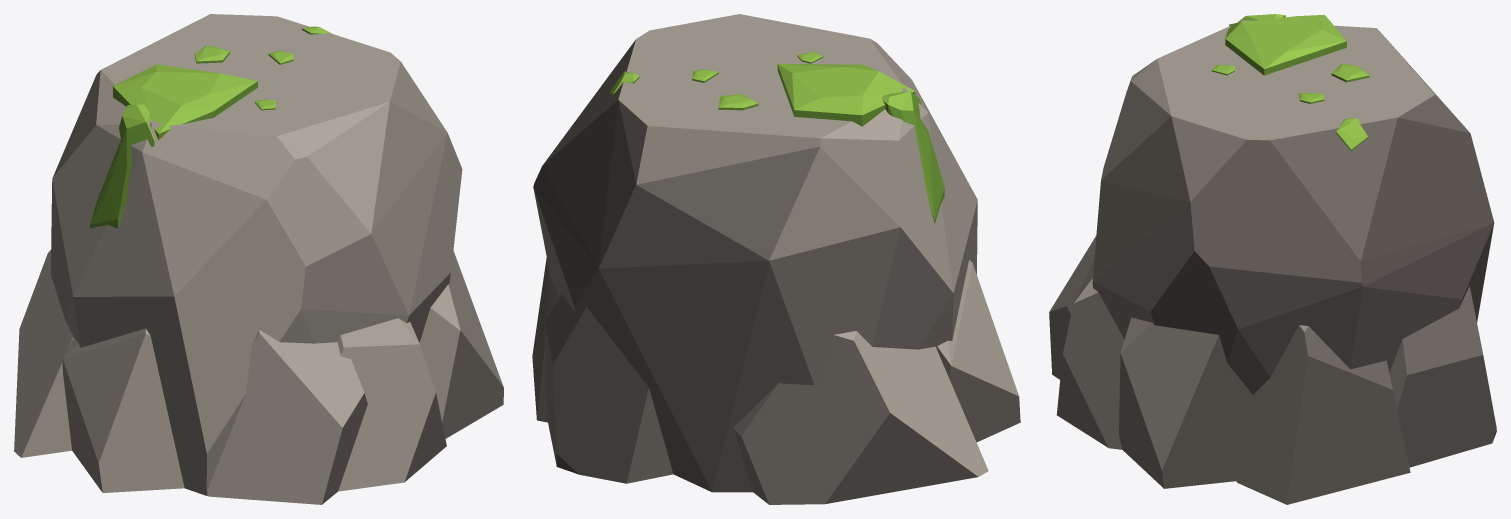
The model's file is FMS_Rock_Boulder.fbx.
The picture shows the model from 3 angles, left to right: view 1: azimuth 30°, elevation 25°; view 2: azimuth 150°, elevation 25°; view 3: azimuth 270°, elevation 25°; orthographic projection. The views are drawn at different scales.
Parts seen in each view (by area): view 1: FMS_Rock_Boulder; view 2: FMS_Rock_Boulder; view 3: FMS_Rock_Boulder.
Part boxes in pixels (x1,y1,x2,y2): FMS_Rock_Boulder: [14, 14, 503, 504]; FMS_Rock_Boulder: [532, 14, 1020, 504]; FMS_Rock_Boulder: [1049, 14, 1496, 504].
Size of the model in its own units: 2.5 by 1.8 by 2.2.
